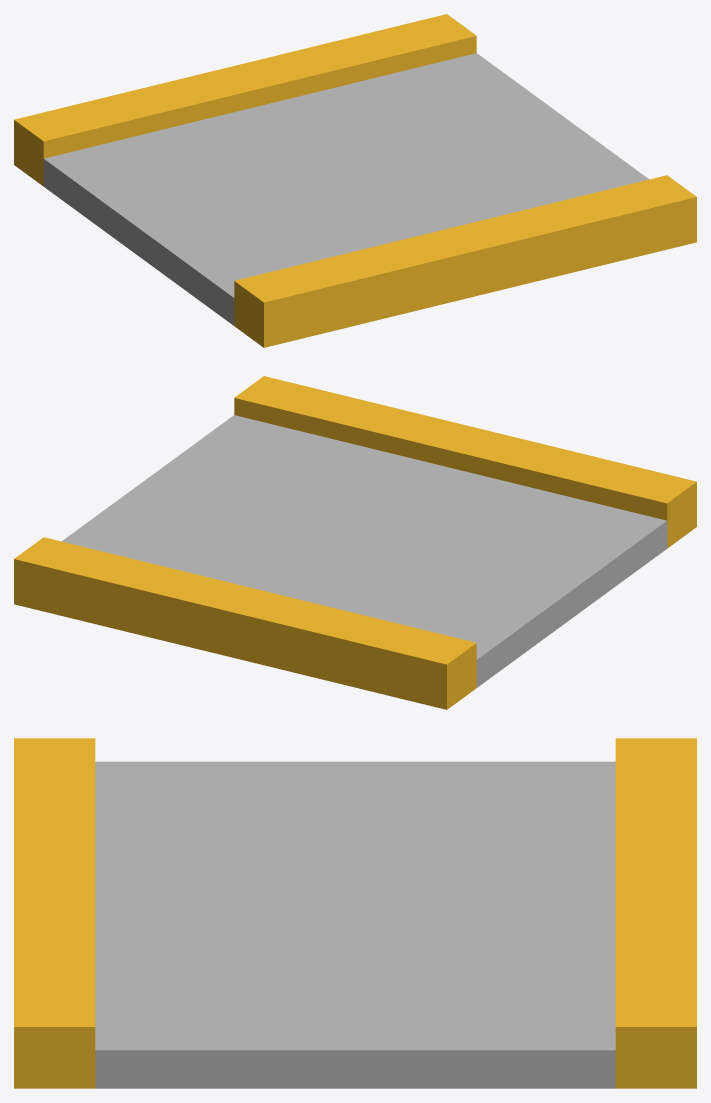
File: Yellow_Straight(1).fbx
The picture shows the model from 3 angles, top to bottom: view 1: azimuth 30°, elevation 25°; view 2: azimuth 150°, elevation 25°; view 3: azimuth 270°, elevation 25°; orthographic projection. The views are drawn at different scales.
Parts seen in each view (by area): view 1: yellow_straight; view 2: yellow_straight; view 3: yellow_straight.
Boxes of the visible parts, x1=… form: yellow_straight: x1=14, y1=14, x2=696, y2=347; yellow_straight: x1=14, y1=376, x2=696, y2=709; yellow_straight: x1=14, y1=738, x2=696, y2=1088.
Size of the model in its own units: 1 by 0.1 by 1.
1 material, 1 textured.
